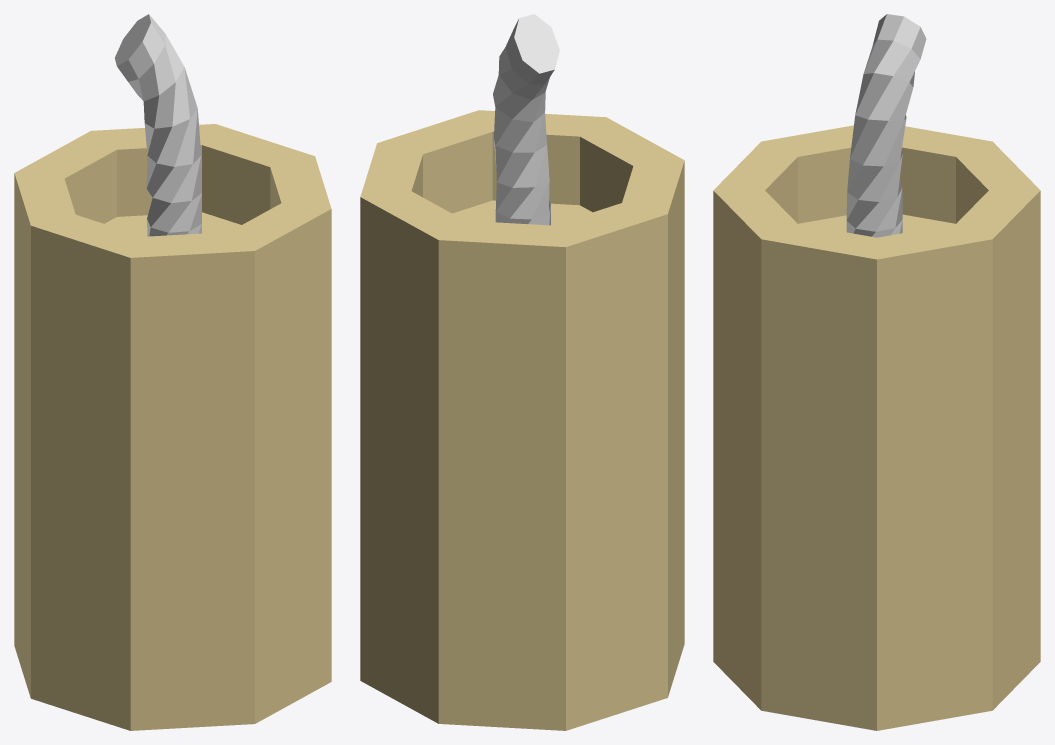
File: Candle.glb
3 views of the same model, side by side, from view 1: azimuth 30°, elevation 25°; view 2: azimuth 150°, elevation 25°; view 3: azimuth 270°, elevation 25° (orthographic). The views are drawn at different scales.
Visible parts, largest first — view 1: candle; view 2: candle; view 3: candle.
Boxes of the visible parts, bbox=[...] form: candle: bbox=[14, 14, 331, 730]; candle: bbox=[360, 14, 684, 730]; candle: bbox=[713, 14, 1040, 730].
Bounding box in the file's own units: 0.1731 × 0.3738 × 0.1731.
